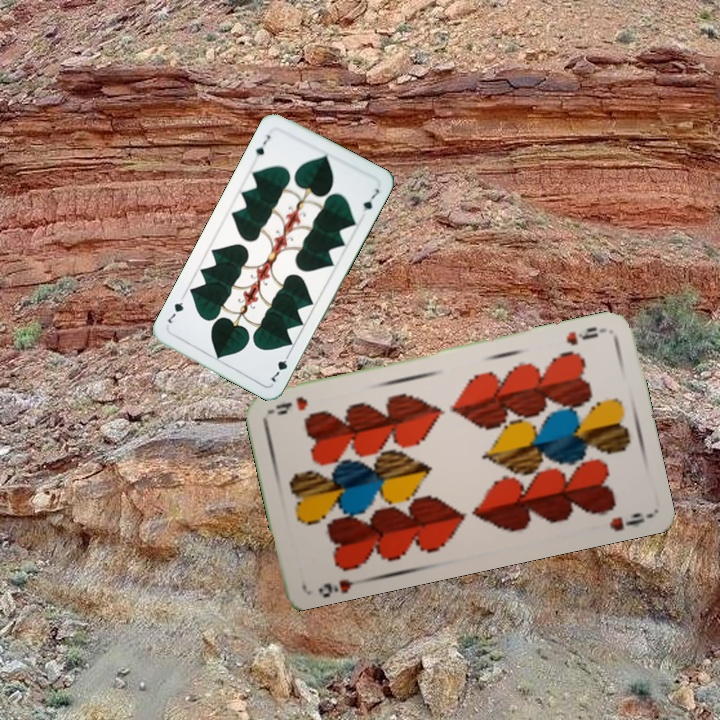G7: (266, 348, 293, 385), (250, 131, 273, 163)
H9: (562, 322, 601, 348), (314, 575, 356, 598)
